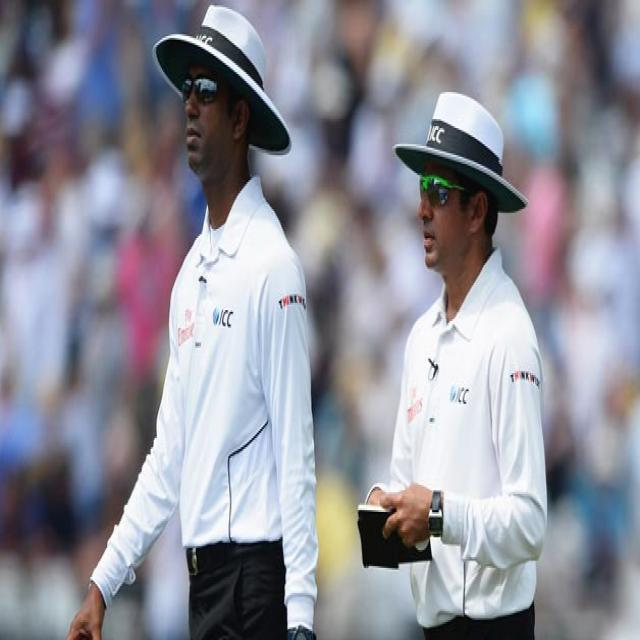No_Action: (64, 0, 328, 640), (352, 77, 552, 640)
